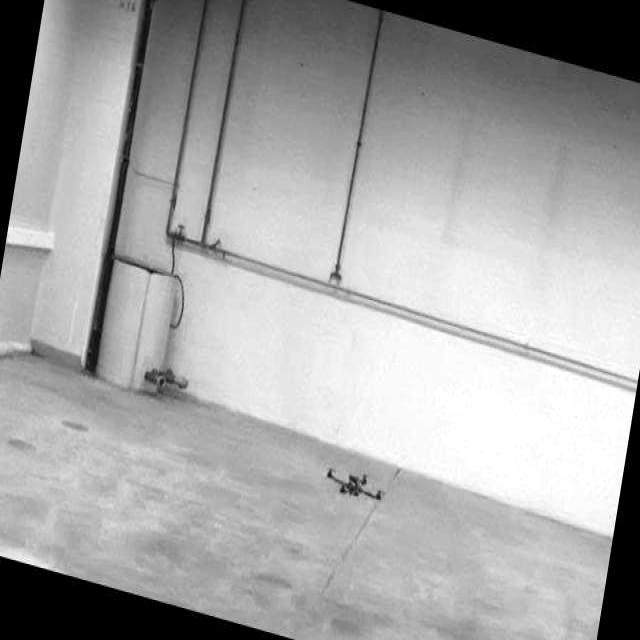drone: (317, 456, 388, 511)
